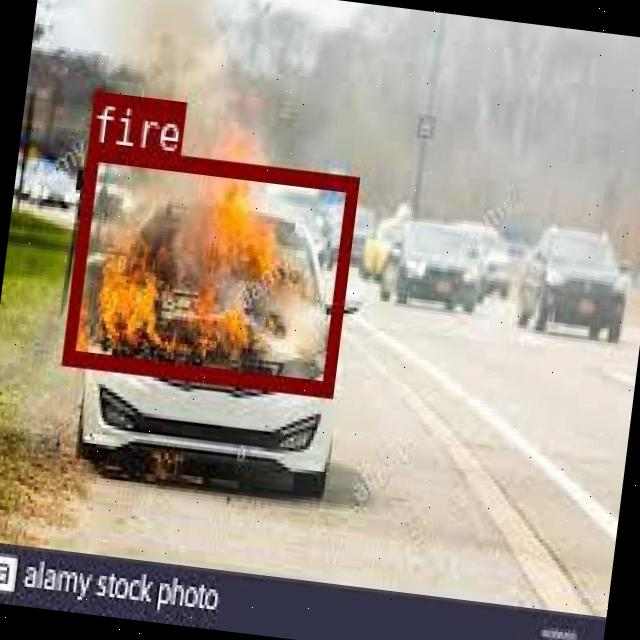fire: (61, 144, 357, 394)
